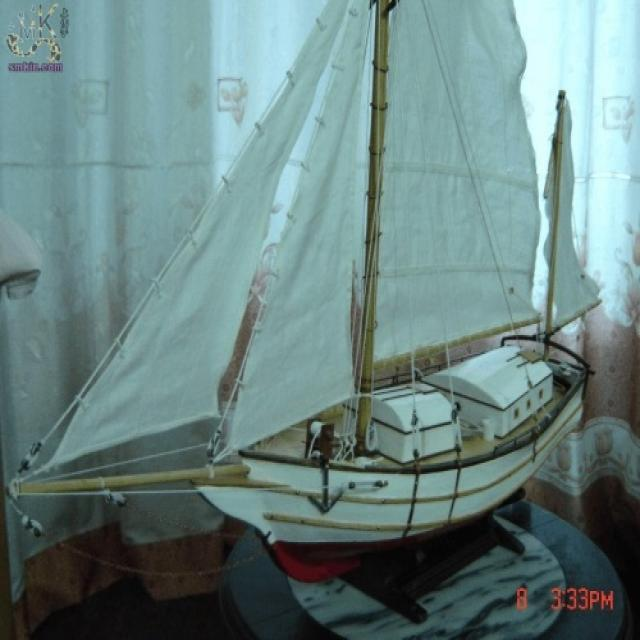Ship: (7, 1, 602, 557)
